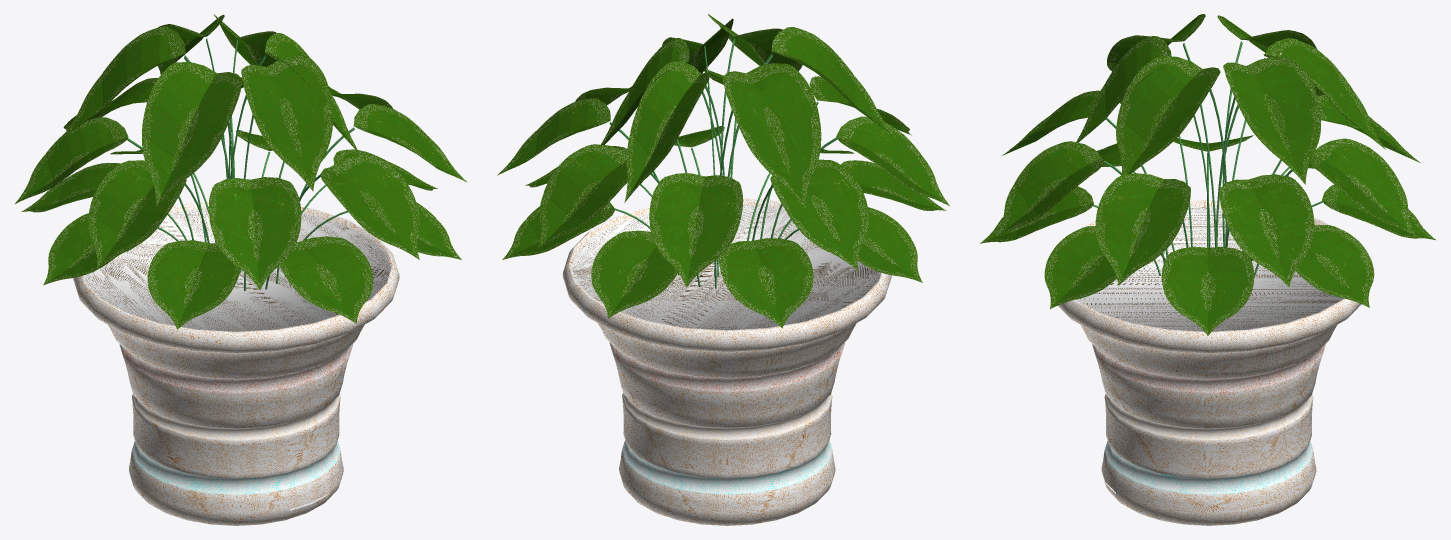
3 renders of one model, left to right at view 1: azimuth 30°, elevation 25°; view 2: azimuth 150°, elevation 25°; view 3: azimuth 270°, elevation 25°, orthographic.
Visible parts, largest first — view 1: SketchUp (×41); view 2: SketchUp (×41); view 3: SketchUp (×43).
Boxes of the visible parts, box(x1,y1,x2,y2) form: SketchUp (×41): box(14, 21, 467, 525); SketchUp (×41): box(497, 20, 949, 525); SketchUp (×43): box(979, 14, 1435, 525).
Bounding box in the file's own units: 22.06 × 22.1 × 23.46.
